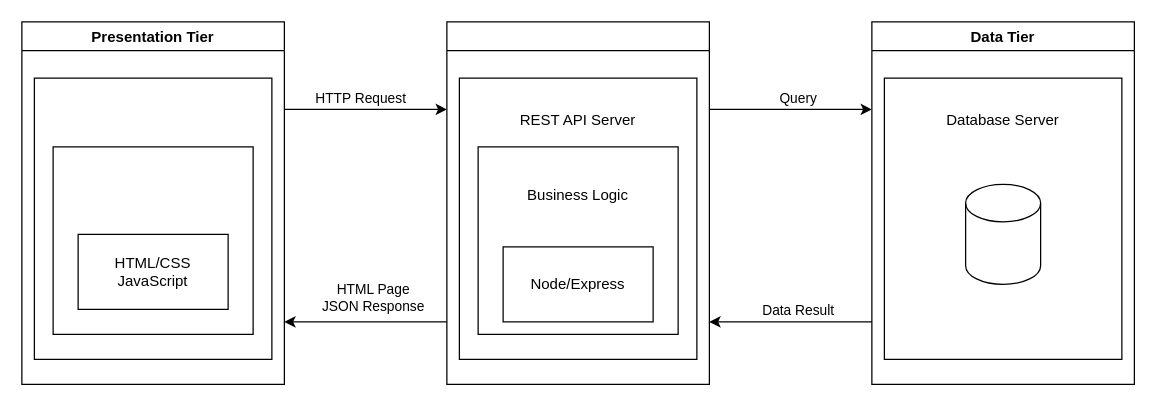
Image size: 1156x406. Some labels were removed from this diagram. Here are the shapes that lost their labels. From the top down, the box of each, then its label:
(33, 77, 272, 359): Browser
(446, 21, 709, 384): Application Tier
(52, 146, 253, 334): Single Page Application
(964, 183, 1041, 284): MongoDB
